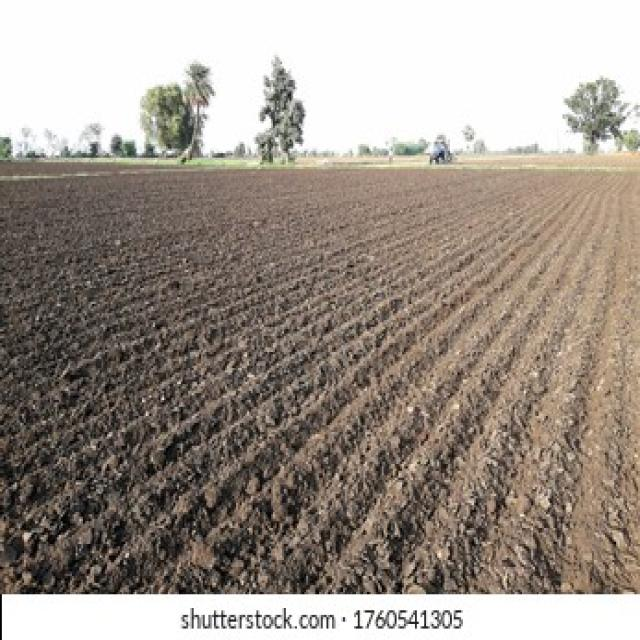Alluvial Soil: (7, 199, 612, 566)
